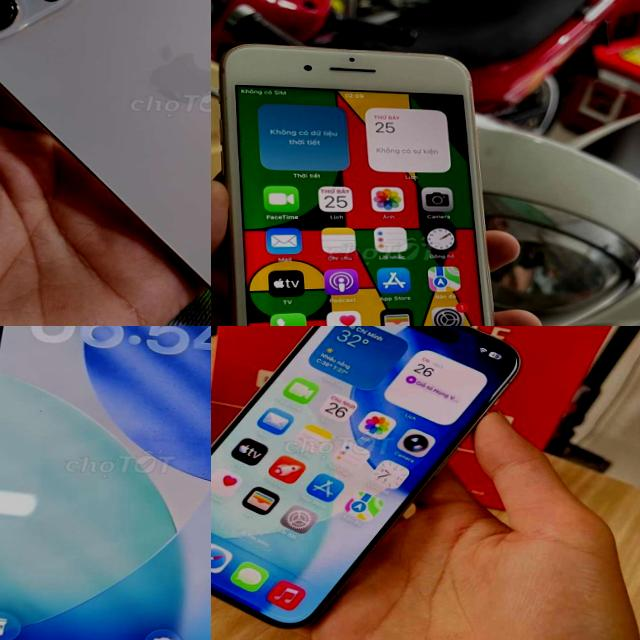gen_12_13: (0, 0, 211, 326)
gen_15: (211, 326, 519, 631)
gen_16: (0, 326, 211, 640)
gen_7_8: (219, 43, 495, 326)
